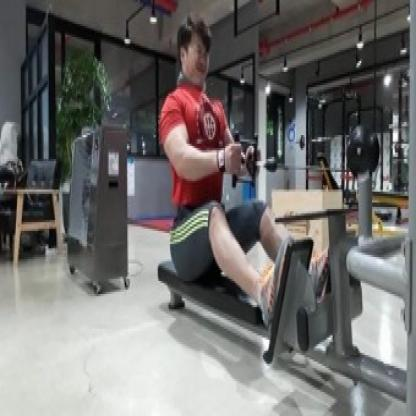Seated Cable Rows: (115, 0, 416, 416)
